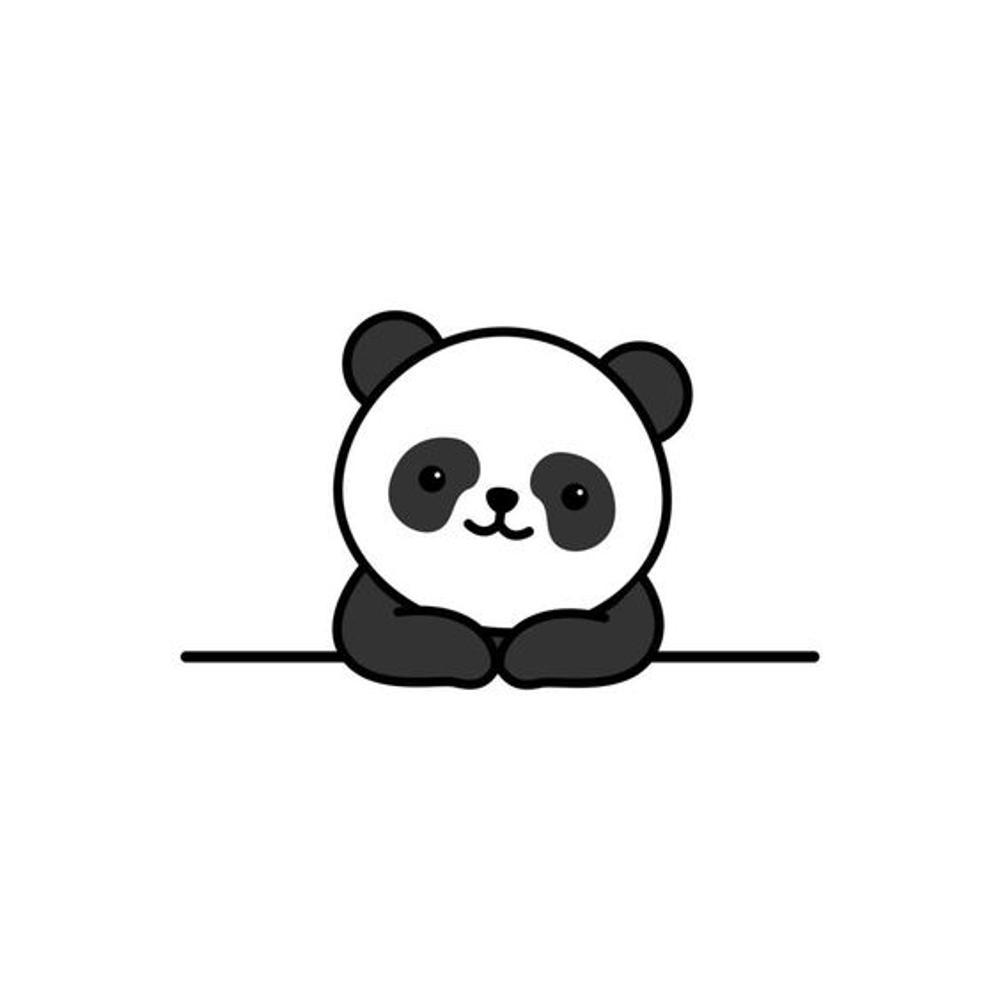panda: (330, 302, 700, 695)
